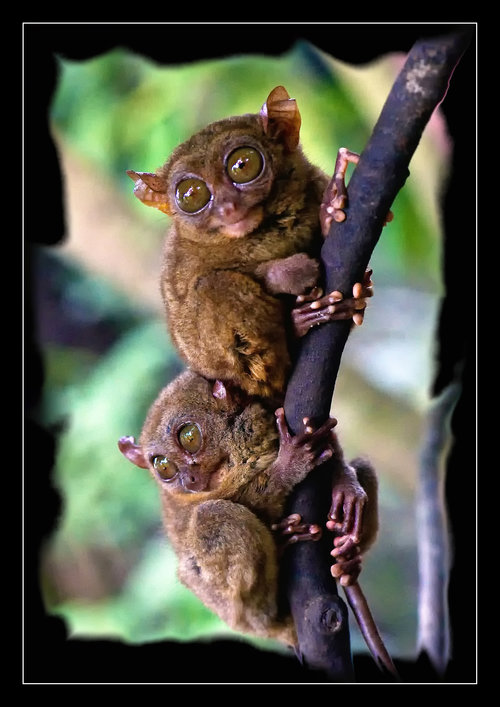tarsier: (112, 362, 380, 635), (122, 84, 357, 389)
